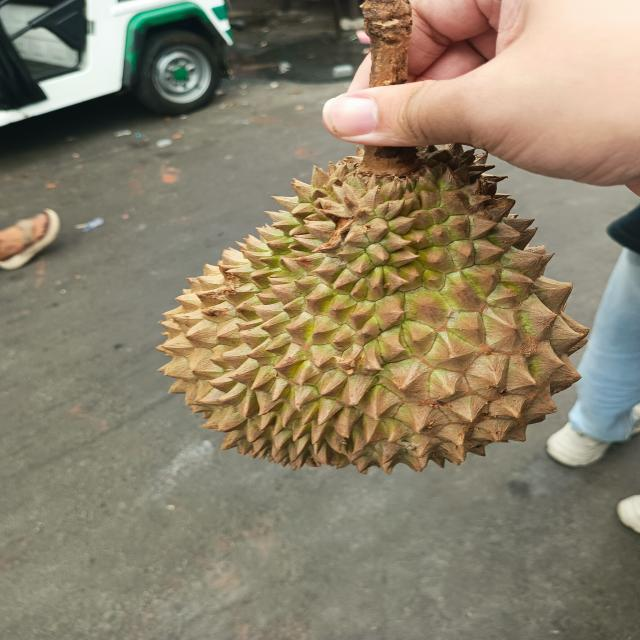mature: (154, 148, 584, 472)
